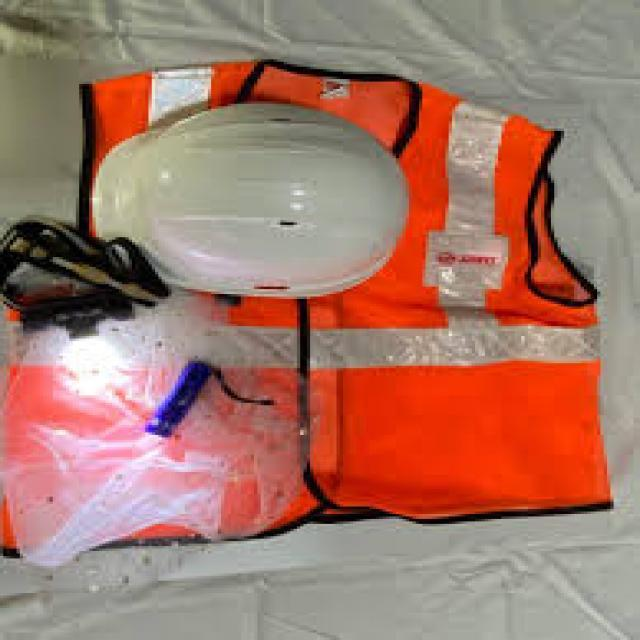reflective_jacket: (0, 41, 639, 556)
safety_helmet: (62, 98, 458, 309)
